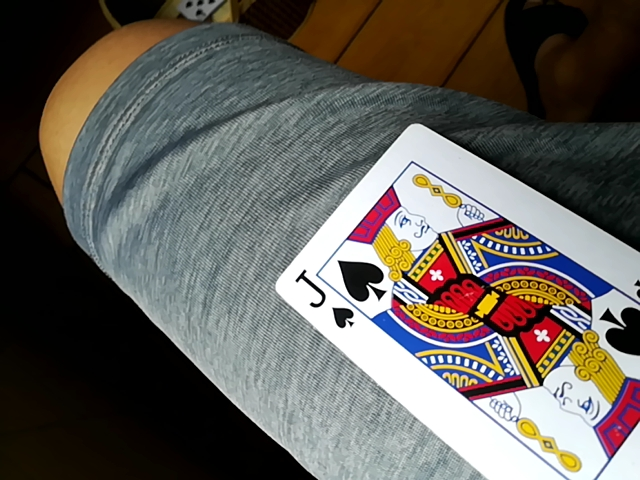ht j: (274, 122, 637, 480)
